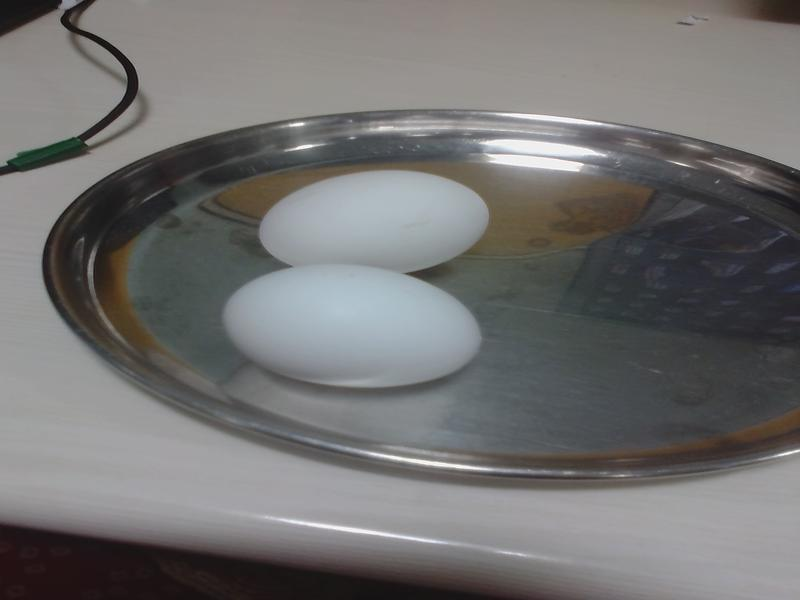egg: (266, 169, 491, 273)
